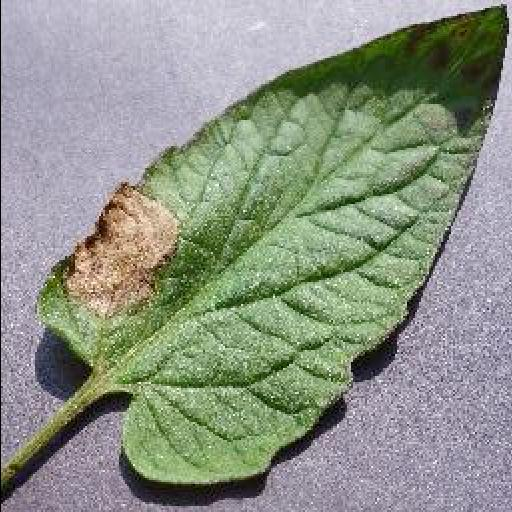disease_tomato: (38, 2, 512, 488)
